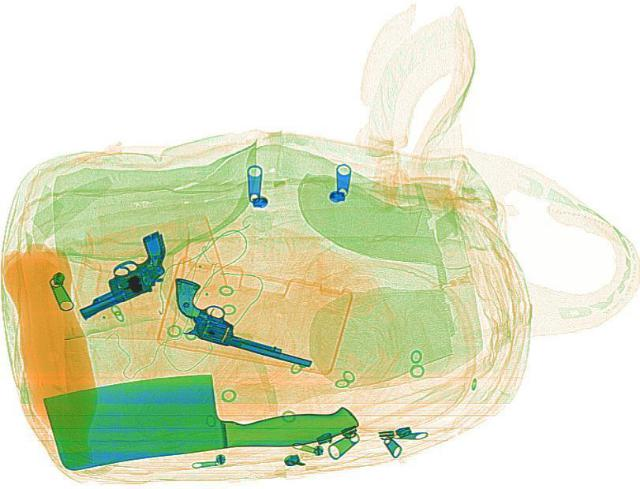Gun: (147, 275, 336, 367), (47, 229, 195, 320)
Knife: (39, 353, 361, 472)
